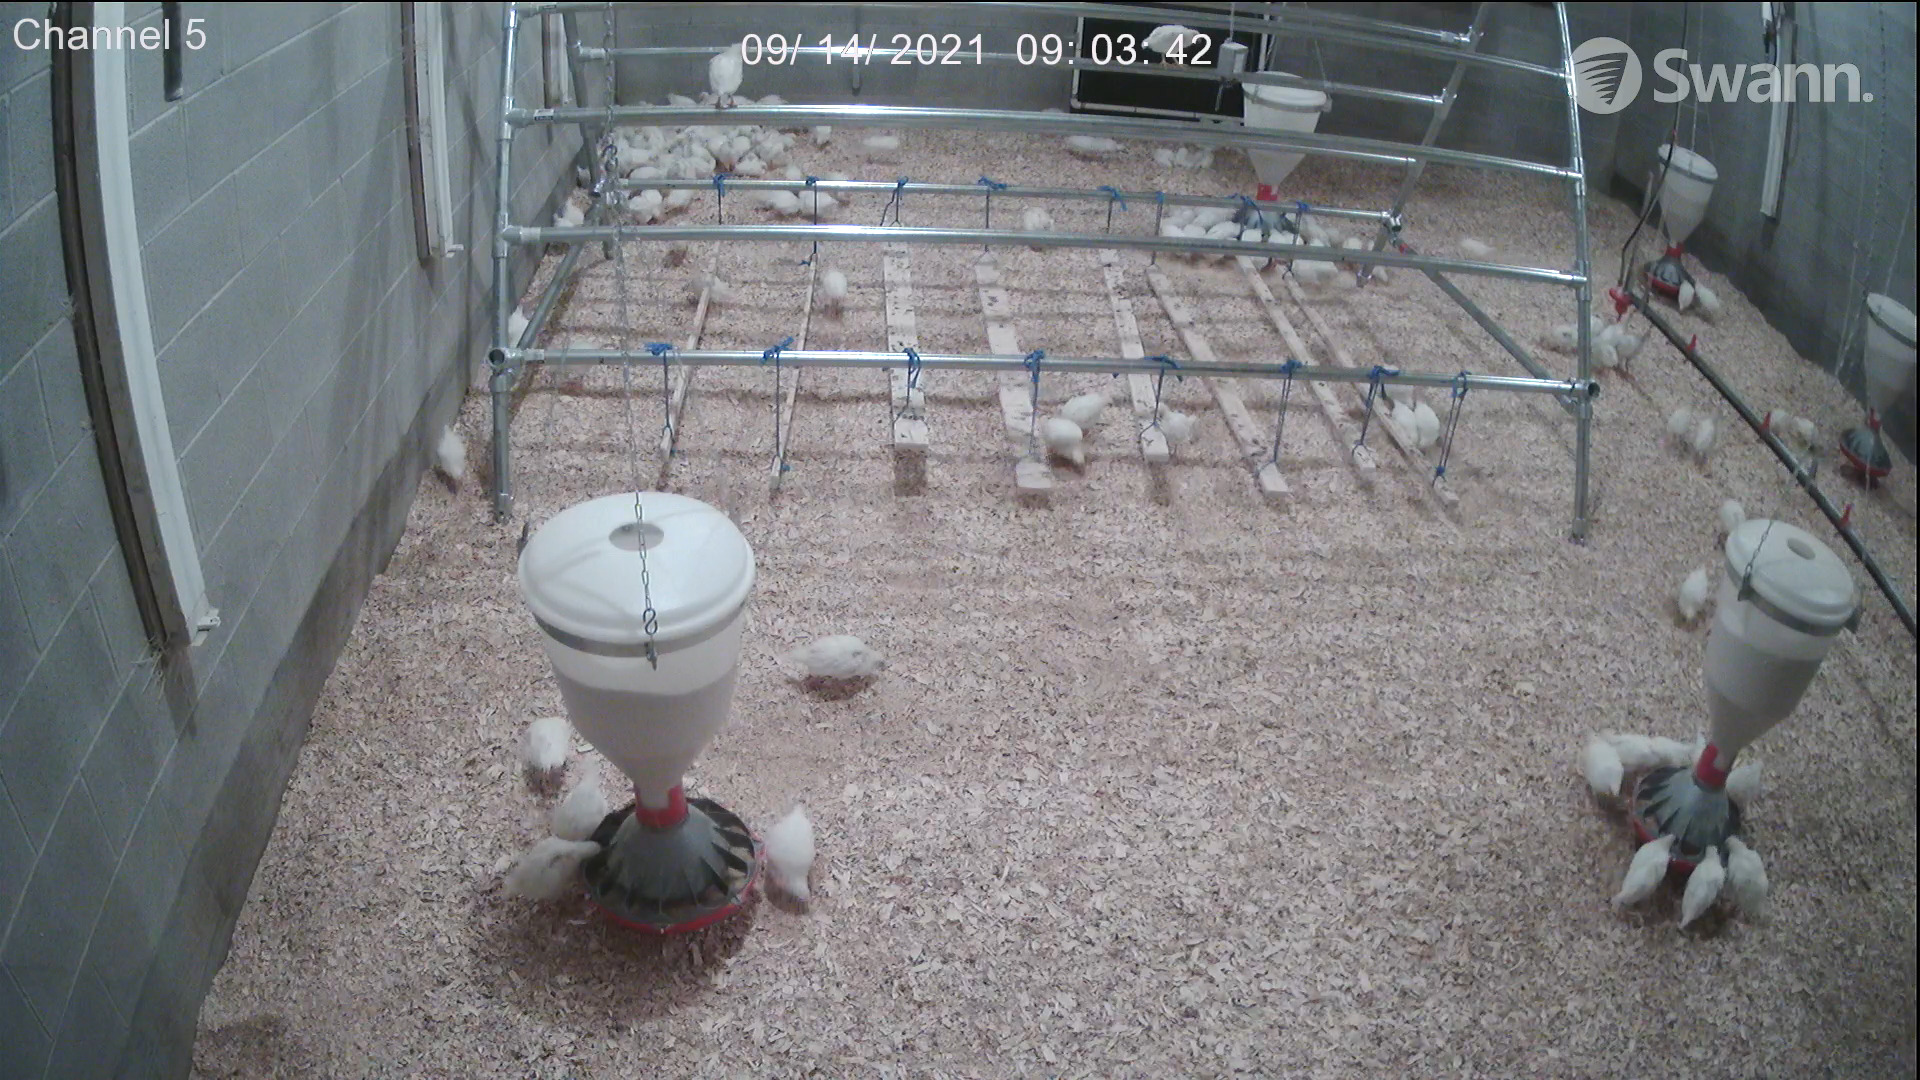Perching: (1126, 9, 1218, 75), (694, 36, 754, 109)
